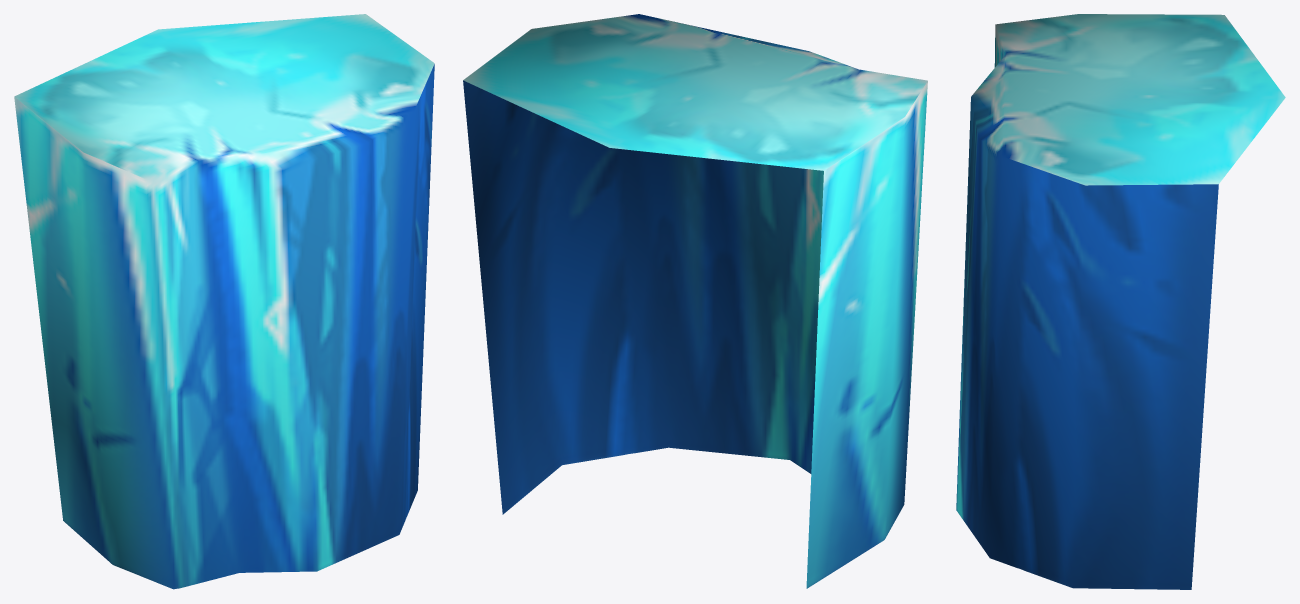
File: Chapter3Scene1Model3.FBX
3 renders of one model, left to right at view 1: azimuth 30°, elevation 25°; view 2: azimuth 150°, elevation 25°; view 3: azimuth 270°, elevation 25°, orthographic. The views are drawn at different scales.
Visible parts, largest first — view 1: Chapter3Scene1Model3; view 2: Chapter3Scene1Model3; view 3: Chapter3Scene1Model3.
Part boxes in pixels (x1=…): Chapter3Scene1Model3: x1=14, y1=14, x2=434, y2=589; Chapter3Scene1Model3: x1=463, y1=14, x2=927, y2=588; Chapter3Scene1Model3: x1=956, y1=14, x2=1285, y2=589.
Size of the model in its own units: 108 by 87.88 by 124.
